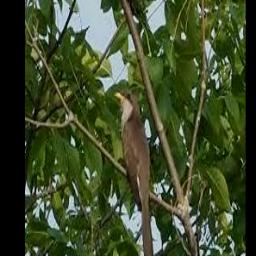Cuckoo: (114, 90, 154, 256)
